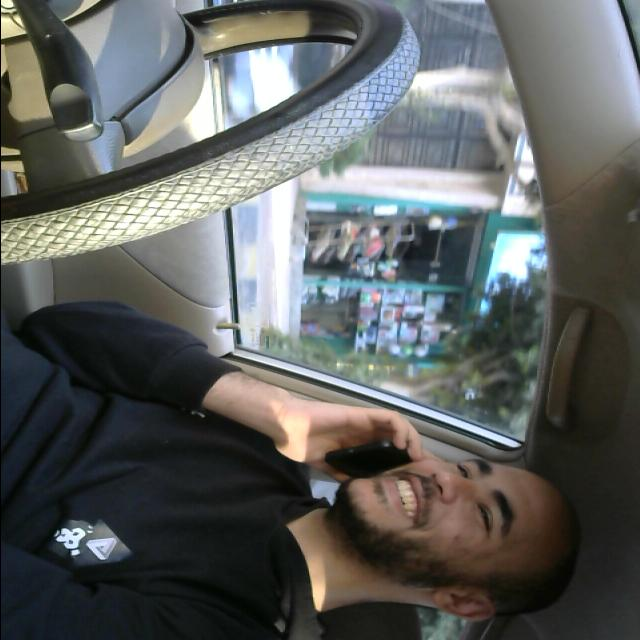mobile use: (316, 436, 424, 492)
